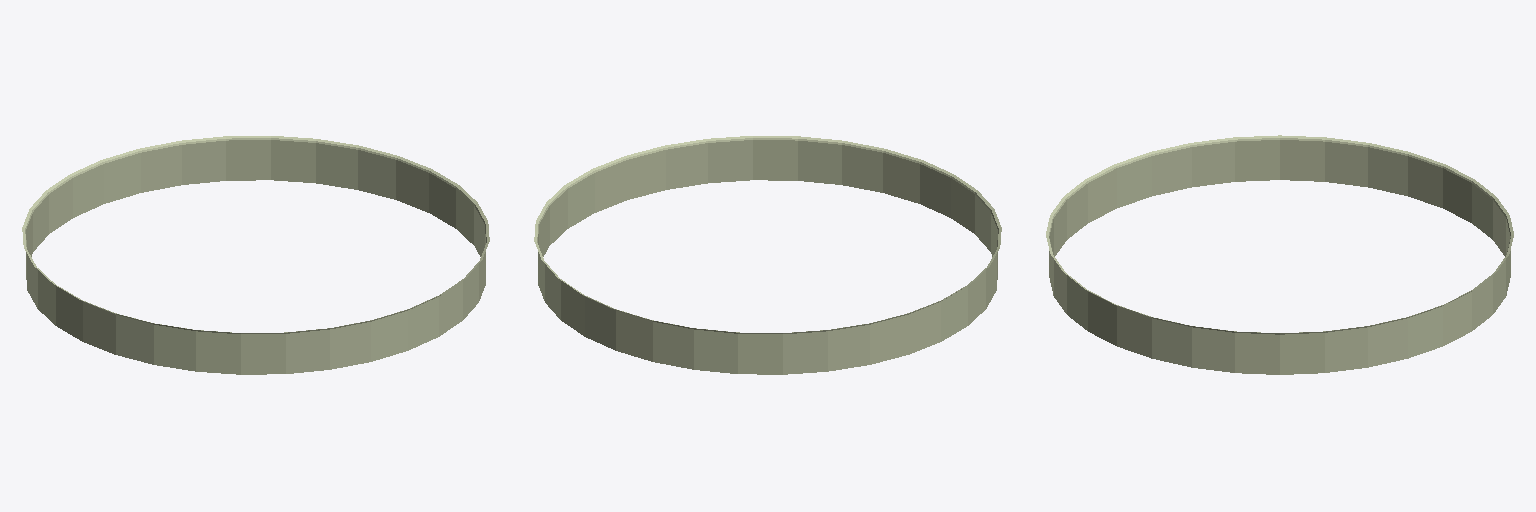
File: Horizon_Waterfalls.obj
The picture shows the model from 3 angles: view 1: azimuth 30°, elevation 25°; view 2: azimuth 150°, elevation 25°; view 3: azimuth 270°, elevation 25°; orthographic projection.
Parts seen in each view (by area): view 1: Cylinder4; view 2: Cylinder4; view 3: Cylinder4.
Boxes of the visible parts, x1,y1,x2,y2 form: Cylinder4: [22, 136, 489, 374]; Cylinder4: [534, 136, 1001, 374]; Cylinder4: [1046, 135, 1513, 374].
Size of the model in its own units: 1723 by 175 by 1723.